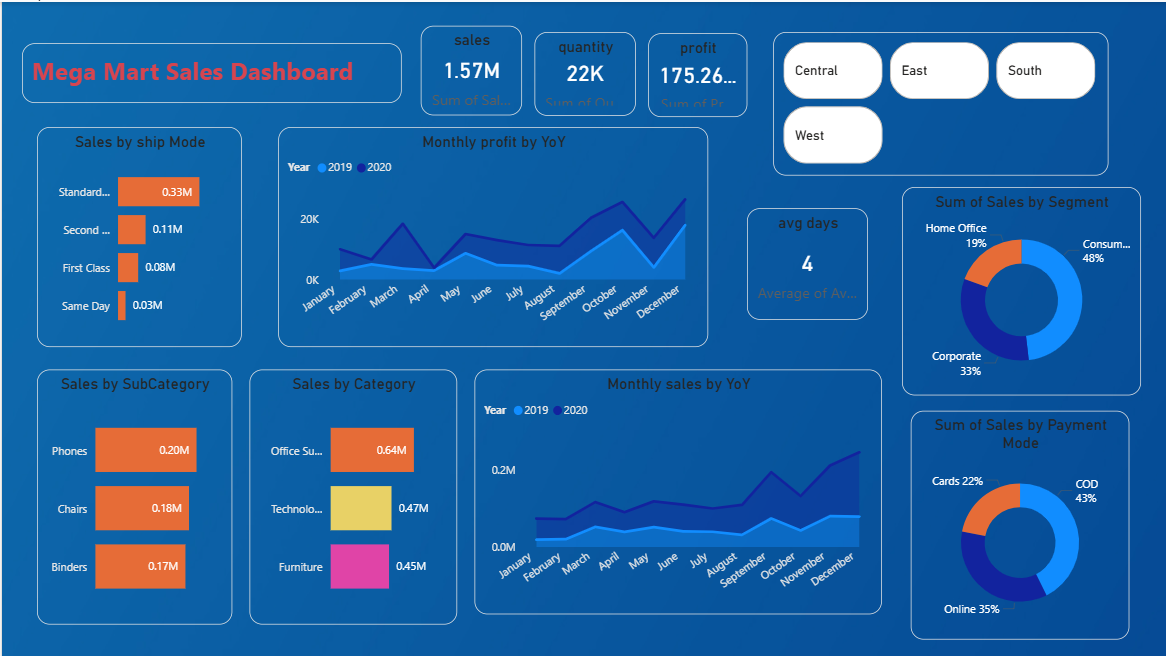

The dashboard page shown, as its layout file describes it:
{"tool":"powerbi","page":{"name":"Page 1","canvas":[1280,720],"ordinal":0},"visuals":[{"type":"clusteredBarChart","title":" Sales by Category","fields":{"Category":["SuperStore_Sales_Dataset.Category"],"Y":["Sum(SuperStore_Sales_Dataset.Sales)"]},"box":[271.7,403.4,227.8,279.9],"z":0},{"type":"clusteredBarChart","title":" Sales by SubCategory","fields":{"Category":["SuperStore_Sales_Dataset.Sub-Category"],"Y":["Sum(SuperStore_Sales_Dataset.Sales)"]},"box":[38.4,403.4,214.1,279.9],"z":1000},{"type":"clusteredBarChart","title":" Sales by ship Mode","fields":{"Category":["SuperStore_Sales_Dataset.Ship Mode"],"Y":["Sum(SuperStore_Sales_Dataset.Sales)"]},"box":[38.4,137.2,225,241.5],"z":2000},{"type":"stackedAreaChart","title":"Monthly sales by YoY","fields":{"Y":["Sum(SuperStore_Sales_Dataset.Sales)"],"Series":["SuperStore_Sales_Dataset.Order Date.Variation.Date Hierarchy.Year"],"Category":["SuperStore_Sales_Dataset.Order Date.Variation.Date Hierarchy.Month","SuperStore_Sales_Dataset.Order Date.Variation.Date Hierarchy.Day"]},"box":[518.7,403.4,447.3,269],"z":3000},{"type":"stackedAreaChart","title":"Monthly profit by YoY","fields":{"Series":["SuperStore_Sales_Dataset.Order Date.Variation.Date Hierarchy.Year"],"Category":["SuperStore_Sales_Dataset.Order Date.Variation.Date Hierarchy.Month","SuperStore_Sales_Dataset.Order Date.Variation.Date Hierarchy.Day"],"Y":["Sum(SuperStore_Sales_Dataset.Profit)"]},"box":[303.3,137.2,472,241.5],"z":4000},{"type":"donutChart","fields":{"Category":["SuperStore_Sales_Dataset.Segment"],"Y":["Sum(SuperStore_Sales_Dataset.Sales)"]},"box":[988,203.1,262.1,229.2],"z":5000},{"type":"donutChart","fields":{"Category":["SuperStore_Sales_Dataset.Payment Mode"],"Y":["Sum(SuperStore_Sales_Dataset.Sales)"]},"box":[997.6,448.7,240.1,251.1],"z":6000},{"type":"advancedSlicerVisual","fields":{"Values":["SuperStore_Sales_Dataset.Region"]},"box":[846.7,32.9,367.8,157.8],"z":6001},{"type":"textbox","box":[22,45.3,417.2,65.9],"z":6002},{"type":"card","title":"sales","fields":{"Values":["Sum(SuperStore_Sales_Dataset.Sales)"]},"box":[459.7,26.1,111.1,98.8],"z":6003},{"type":"card","title":"quantity","fields":{"Values":["Sum(SuperStore_Sales_Dataset.Quantity)"]},"box":[584.6,32.9,111.1,91.9],"z":6004},{"type":"card","title":"profit","fields":{"Values":["Sum(SuperStore_Sales_Dataset.Profit)"]},"box":[709.4,34.3,108.4,91.9],"z":6005},{"type":"card","title":"avg days","fields":{"Values":["Avg(SuperStore_Sales_Dataset.AvgDelivery)"]},"box":[817.8,226.4,133.1,122.1],"z":6006}]}

Visuals, with their boxes in screenshot pixels (x1, y1, x2, y2), scaled from the page's 1280x720 canvas onto the 1166x656 screenshot:
" Sales by Category" clusteredBarChart: 248, 368, 455, 623
" Sales by SubCategory" clusteredBarChart: 35, 368, 230, 623
" Sales by ship Mode" clusteredBarChart: 35, 125, 240, 345
"Monthly sales by YoY" stackedAreaChart: 473, 368, 880, 613
"Monthly profit by YoY" stackedAreaChart: 276, 125, 706, 345
donutChart - SuperStore_Sales_Dataset.Segment x Sum(SuperStore_Sales_Dataset.Sales): 900, 185, 1139, 394
donutChart - SuperStore_Sales_Dataset.Payment Mode x Sum(SuperStore_Sales_Dataset.Sales): 909, 409, 1127, 638
advancedSlicerVisual - SuperStore_Sales_Dataset.Region: 771, 30, 1106, 174
textbox: 20, 41, 400, 101
"sales" card: 419, 24, 520, 114
"quantity" card: 533, 30, 634, 114
"profit" card: 646, 31, 745, 115
"avg days" card: 745, 206, 866, 318
